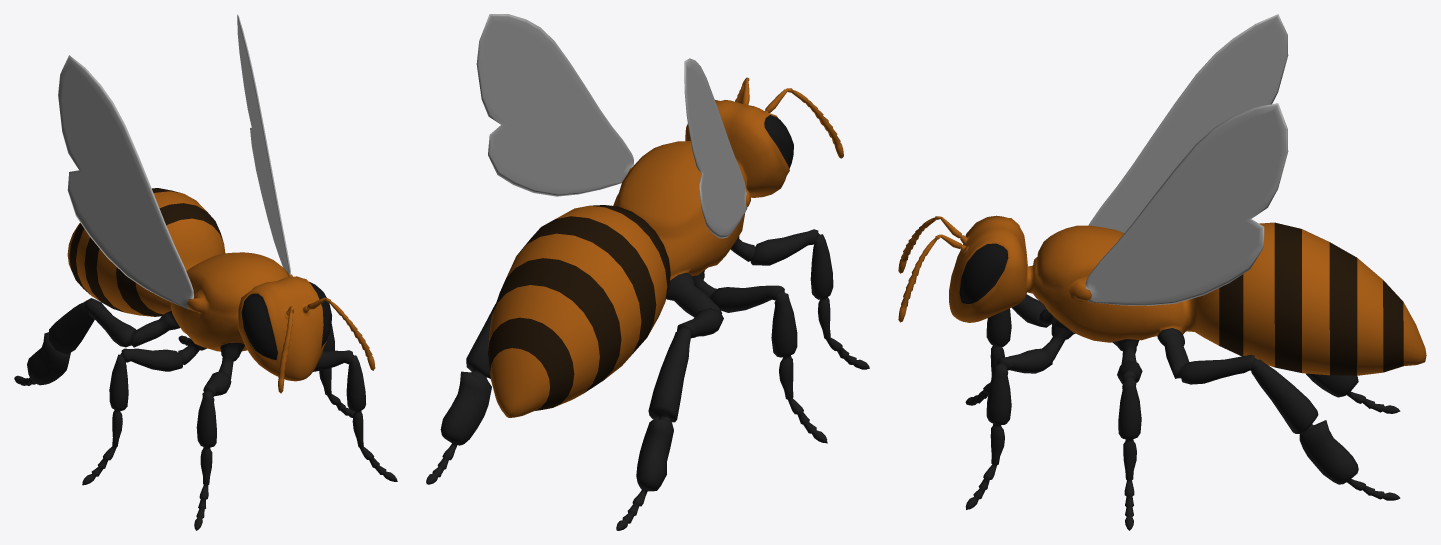
Rendered from bee_bee.obj.
3 renders of one model, left to right at view 1: azimuth 30°, elevation 25°; view 2: azimuth 150°, elevation 25°; view 3: azimuth 270°, elevation 25°, orthographic. The views are drawn at different scales.
Parts seen in each view (by area): view 1: bee; view 2: bee; view 3: bee.
Boxes of the visible parts, left/top/right/bottom form: bee: left=14, top=14, right=397, bottom=530; bee: left=426, top=14, right=869, bottom=530; bee: left=898, top=14, right=1426, bottom=530.
Size of the model in its own units: 0.0121 by 0.0152 by 0.0182.
